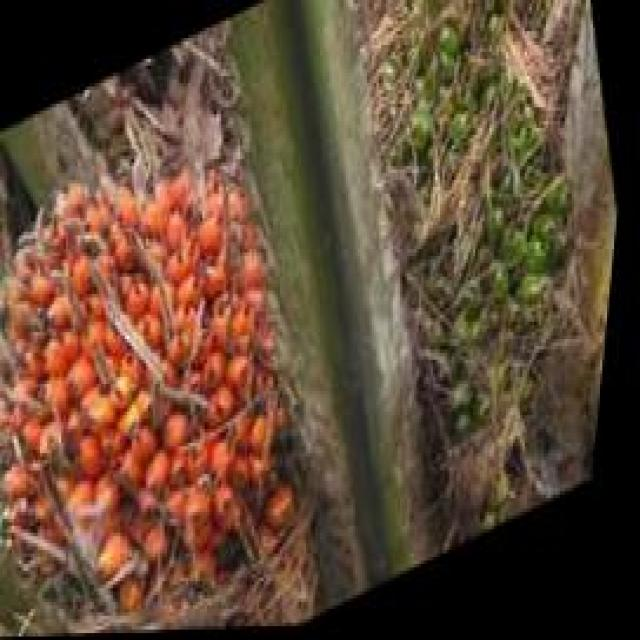Ripefruit: (0, 86, 355, 639)
